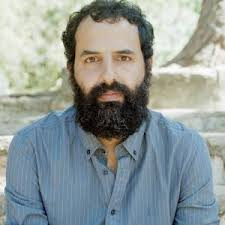middle_eastern_male: (66, 5, 143, 122)
